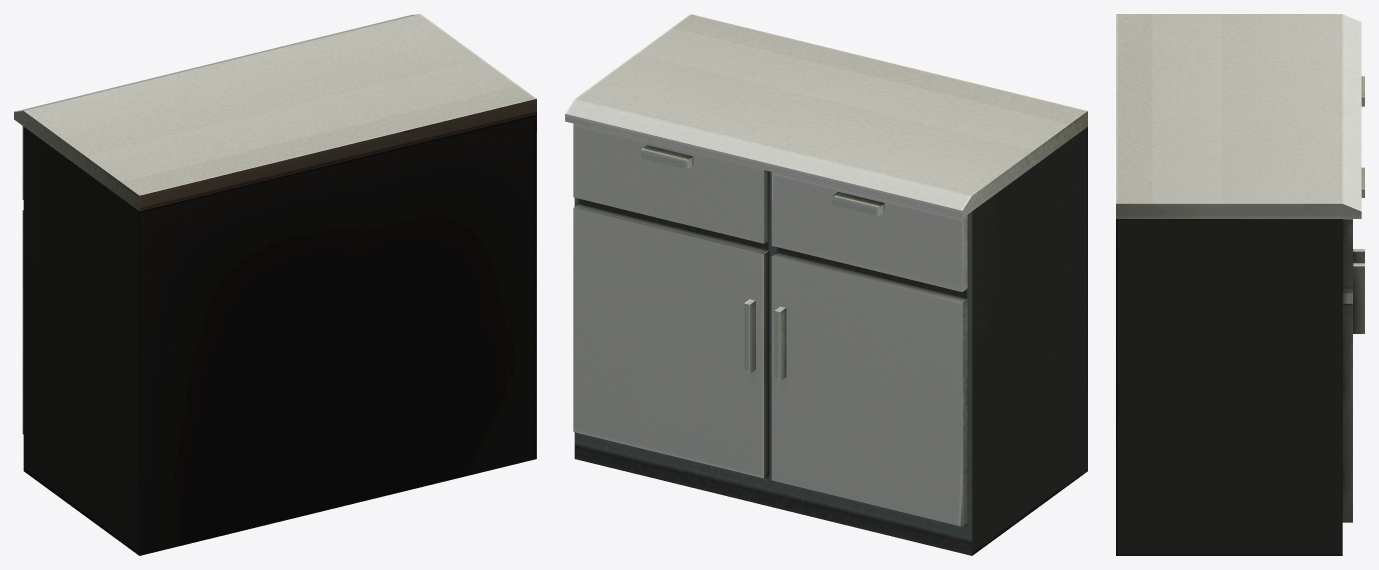
File: 3Dguoji_HDGS_wupinggui01_xp_ljw.FBX
3 views of the same model, side by side, from view 1: azimuth 30°, elevation 25°; view 2: azimuth 150°, elevation 25°; view 3: azimuth 270°, elevation 25° (orthographic). The views are drawn at different scales.
Visible parts, largest first — view 1: 3Dguoji_HDGS_wupinggui01_xp_ljw; view 2: 3Dguoji_HDGS_wupinggui01_xp_ljw; view 3: 3Dguoji_HDGS_wupinggui01_xp_ljw.
Part boxes in pixels (bbox=[...]): 3Dguoji_HDGS_wupinggui01_xp_ljw: bbox=[14, 14, 536, 555]; 3Dguoji_HDGS_wupinggui01_xp_ljw: bbox=[565, 14, 1087, 555]; 3Dguoji_HDGS_wupinggui01_xp_ljw: bbox=[1116, 14, 1364, 555].
Size of the model in its own units: 0.7296 by 0.6319 by 0.4045.
